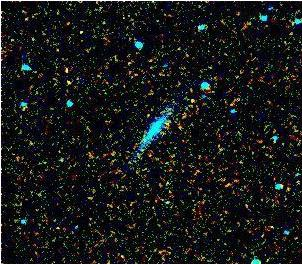star: (179, 87, 209, 117)
